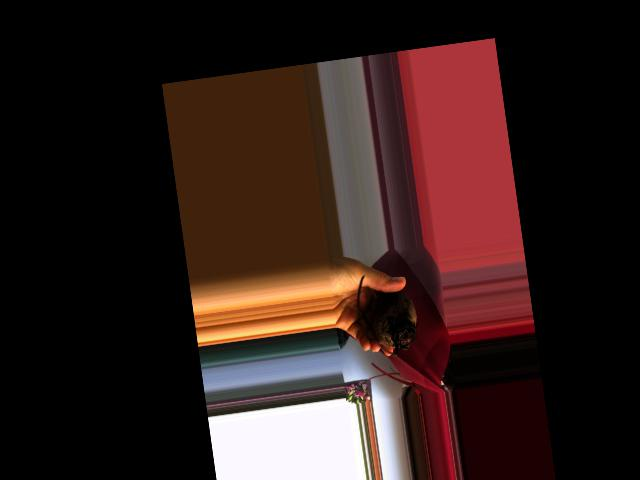beet: (353, 269, 421, 361)
